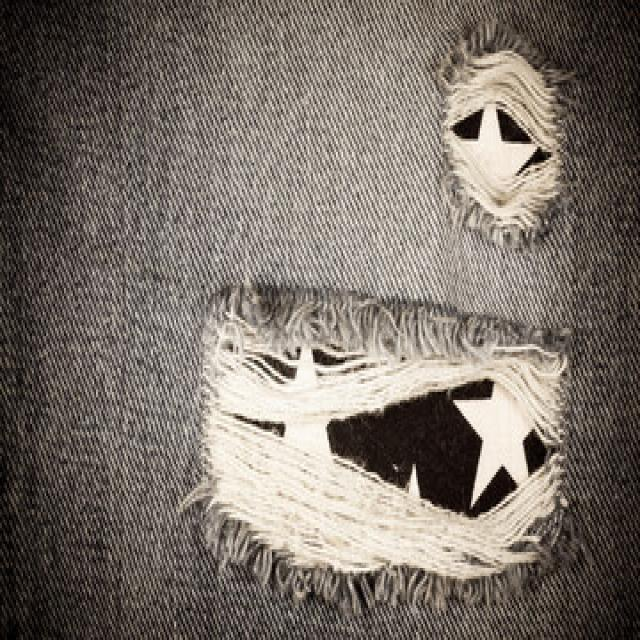Hole: (183, 287, 575, 613), (440, 20, 575, 248)
